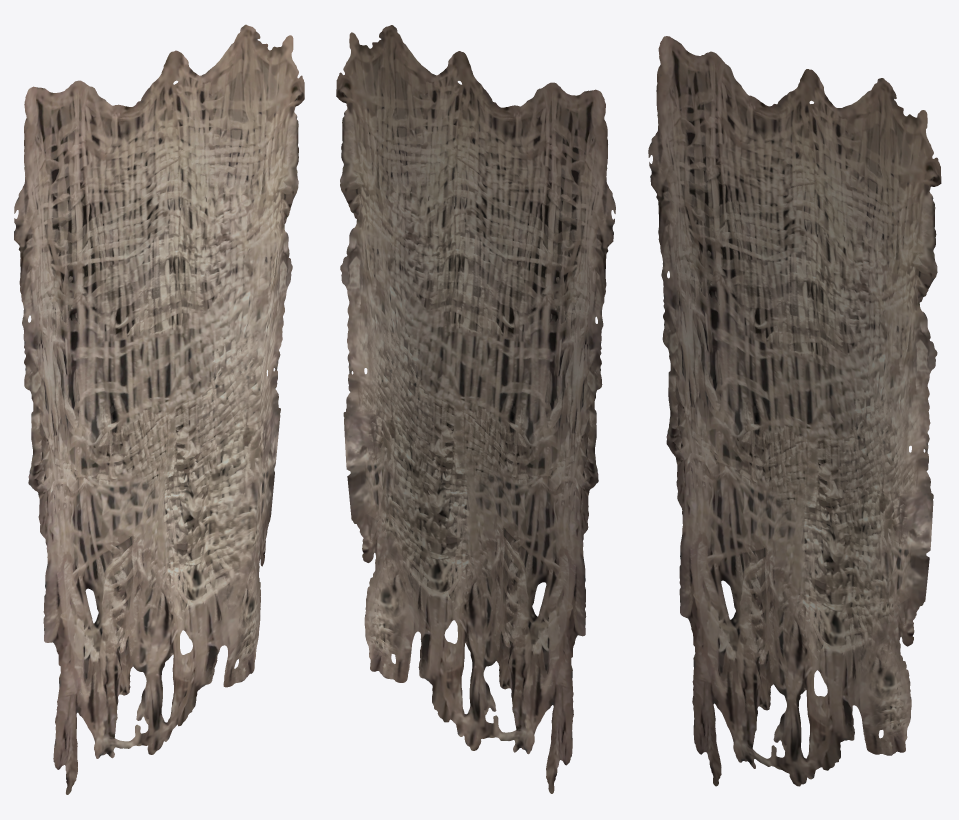
Rendered from VN-15-Andreeva.fbx.
3 renders of one model, left to right at view 1: azimuth 30°, elevation 25°; view 2: azimuth 150°, elevation 25°; view 3: azimuth 330°, elevation 25°, orthographic. The views are drawn at different scales.
Parts seen in each view (by area): view 1: VN-15-Andreeva Platochek; view 2: VN-15-Andreeva Platochek; view 3: VN-15-Andreeva Platochek.
Part boxes in pixels (x1,y1,x2,y2): VN-15-Andreeva Platochek: (14, 24, 304, 794); VN-15-Andreeva Platochek: (336, 25, 615, 793); VN-15-Andreeva Platochek: (648, 36, 941, 786).
Bounding box in the file's own units: 44.19 × 110 × 3.7.
